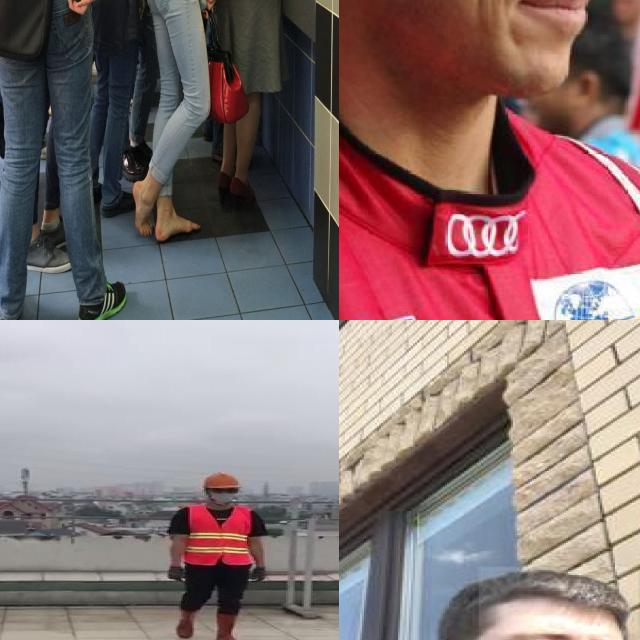Barefoots: (132, 181, 154, 237), (155, 216, 201, 242)
boots: (215, 611, 247, 640), (172, 608, 195, 638)
face_nomask: (449, 0, 635, 61)
head_helmet: (200, 470, 242, 489)
head_nohelmet: (478, 567, 640, 634)
person: (166, 473, 278, 640)
vest: (184, 505, 256, 565)
